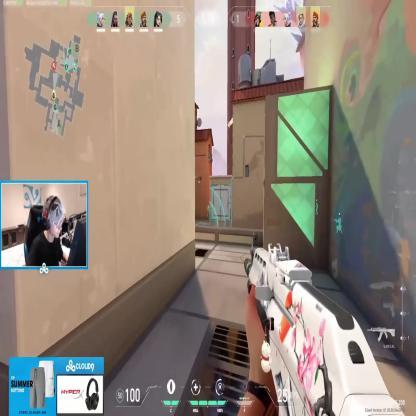enemy: (207, 206, 210, 224)
enemy_head: (208, 204, 210, 209)
